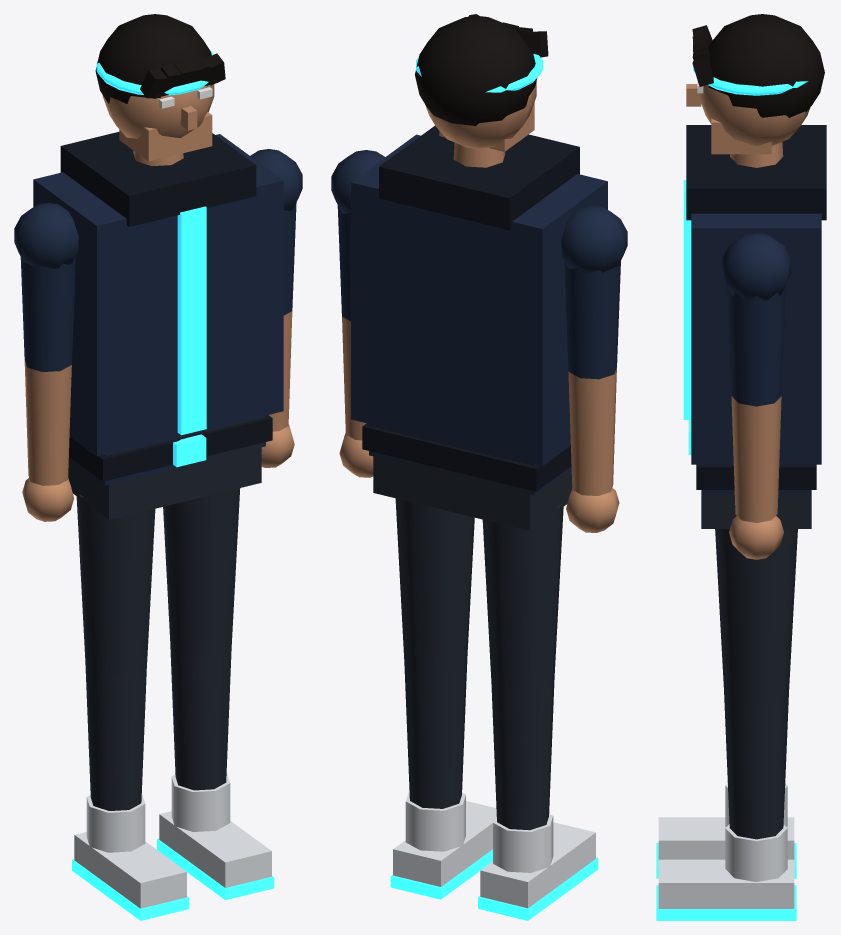
Rendered from hero.glb.
3 renders of one model, left to right at view 1: azimuth 30°, elevation 25°; view 2: azimuth 150°, elevation 25°; view 3: azimuth 270°, elevation 25°, orthographic. The views are drawn at different scales.
Parts seen in each view (by area): view 1: chest, thigh_R, collar, thigh_L, shin_L, shin_R, pelvis, chest_stripe, hair_cap, upper_arm_R, forearm_R, boot_R (+17 smaller); view 2: chest, collar, thigh_R, thigh_L, hair_cap, pelvis, shin_L, shin_R, upper_arm_R, belt, forearm_R, boot_R (+13 smaller); view 3: chest, thigh_L, collar, hair_cap, shin_L, upper_arm_L, boot_L, forearm_L, shoulder_ball_L, boot_R, skull, boot_cuff_L (+10 smaller).
Part boxes in pixels (left/top/right/bottom): chest: left=33, top=134, right=283, bottom=456; thigh_R: left=76, top=494, right=155, bottom=677; collar: left=60, top=132, right=256, bottom=226; thigh_L: left=163, top=488, right=240, bottom=657; shin_L: left=170, top=642, right=231, bottom=790; shin_R: left=85, top=662, right=146, bottom=810; pelvis: left=68, top=416, right=261, bottom=519; chest_stripe: left=177, top=206, right=206, bottom=435; hair_cap: left=95, top=14, right=211, bottom=103; upper_arm_R: left=20, top=257, right=75, bottom=371; forearm_R: left=24, top=360, right=71, bottom=485; boot_R: left=74, top=832, right=186, bottom=908; chest: left=351, top=134, right=607, bottom=465; collar: left=379, top=126, right=579, bottom=230; thigh_R: left=482, top=504, right=563, bottom=693; thigh_L: left=395, top=498, right=474, bottom=672; hair_cap: left=415, top=15, right=537, bottom=125; pelvis: left=373, top=425, right=572, bottom=530; shin_L: left=404, top=655, right=467, bottom=808; shin_R: left=491, top=677, right=554, bottom=830; upper_arm_R: left=564, top=261, right=620, bottom=379; belt: left=362, top=423, right=571, bottom=491; forearm_R: left=568, top=367, right=616, bottom=495; boot_R: left=480, top=822, right=595, bottom=908; chest: left=691, top=213, right=821, bottom=464; thigh_L: left=715, top=529, right=797, bottom=702; collar: left=686, top=125, right=826, bottom=220; hair_cap: left=708, top=14, right=824, bottom=117; shin_L: left=724, top=690, right=788, bottom=839; upper_arm_L: left=727, top=286, right=785, bottom=406; boot_L: left=658, top=859, right=794, bottom=908; forearm_L: left=731, top=396, right=781, bottom=522; shoulder_ball_L: left=722, top=232, right=791, bottom=300; boot_R: left=658, top=817, right=794, bottom=859; skull: left=700, top=85, right=810, bottom=146; boot_cuff_L: left=725, top=824, right=787, bottom=881.
Bounding box in the file's own units: 0.6562 × 1.91 × 0.34.
